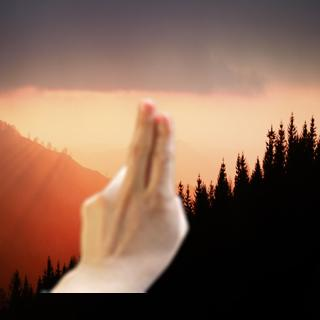DHAVE: (72, 92, 191, 275)
